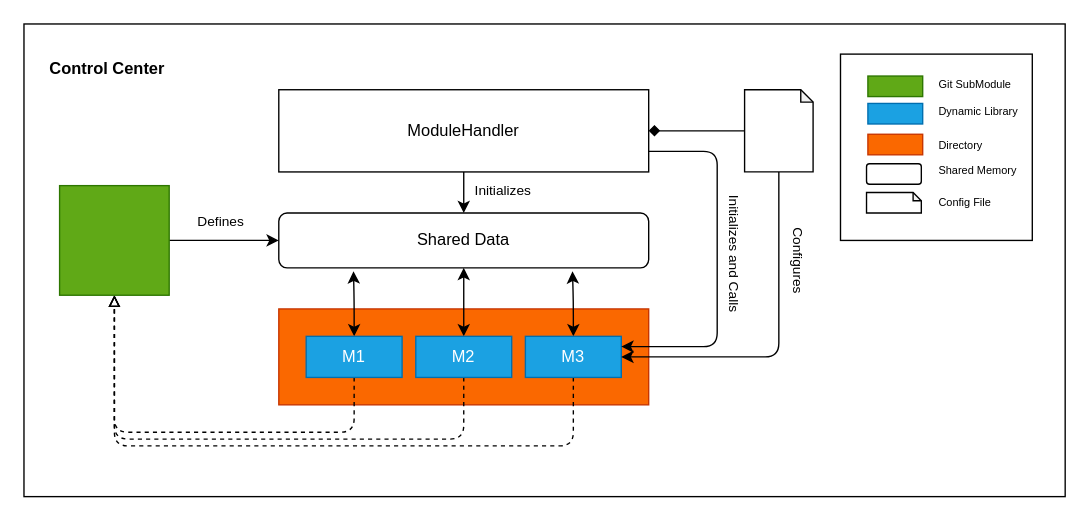
Some shapes in this 1089 by 521 pixel diagram are drawn without their labels. The shapes that lost their labels are listed below. From the top down, each one's centre as x and y in pixels, then its label:
point (778, 130): Modules XML
point (113, 239): Module <<Abstract>>
